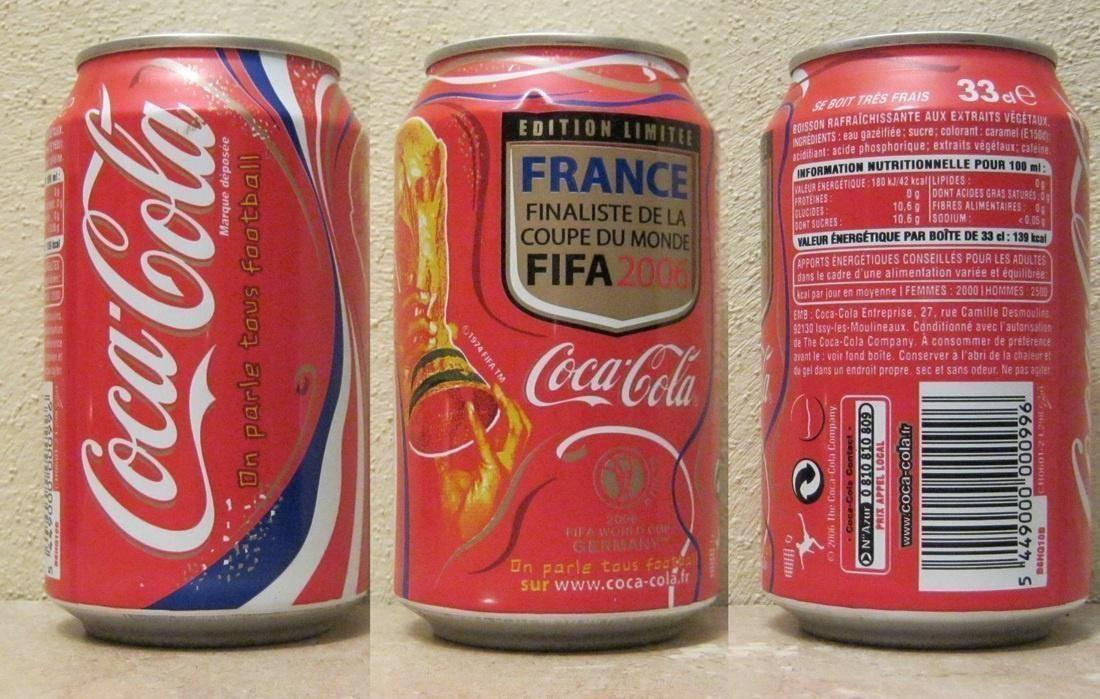tin can: (755, 29, 1097, 650), (388, 33, 728, 650), (41, 30, 376, 651)
